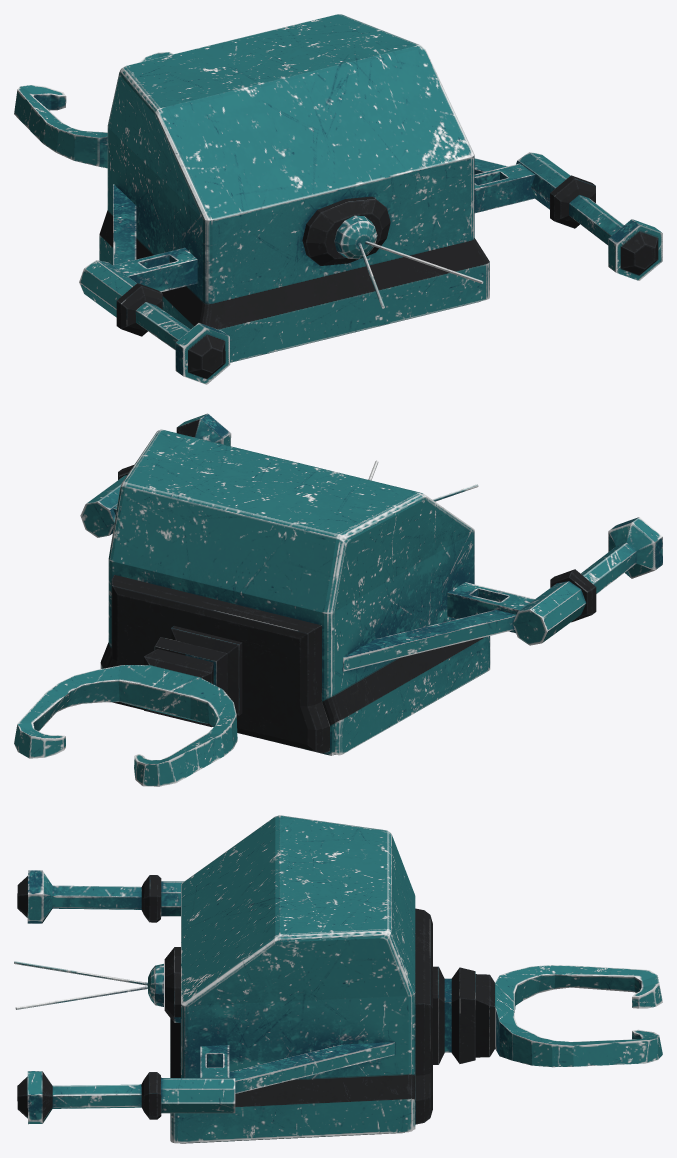
Rendered from TVOnly.gltf.
3 renders of one model, top to bottom at view 1: azimuth 30°, elevation 25°; view 2: azimuth 150°, elevation 25°; view 3: azimuth 270°, elevation 25°, orthographic. The views are drawn at different scales.
Visible parts, largest first — view 1: Cube.020; view 2: Cube.020; view 3: Cube.020.
Boxes of the visible parts, <box> form: Cube.020: <box>14,14,662,384</box>; Cube.020: <box>14,413,662,786</box>; Cube.020: <box>14,815,662,1143</box>.
Bounding box in the file's own units: 1.77 × 0.7649 × 2.2.
Materials: 1 (1 with a texture image).
